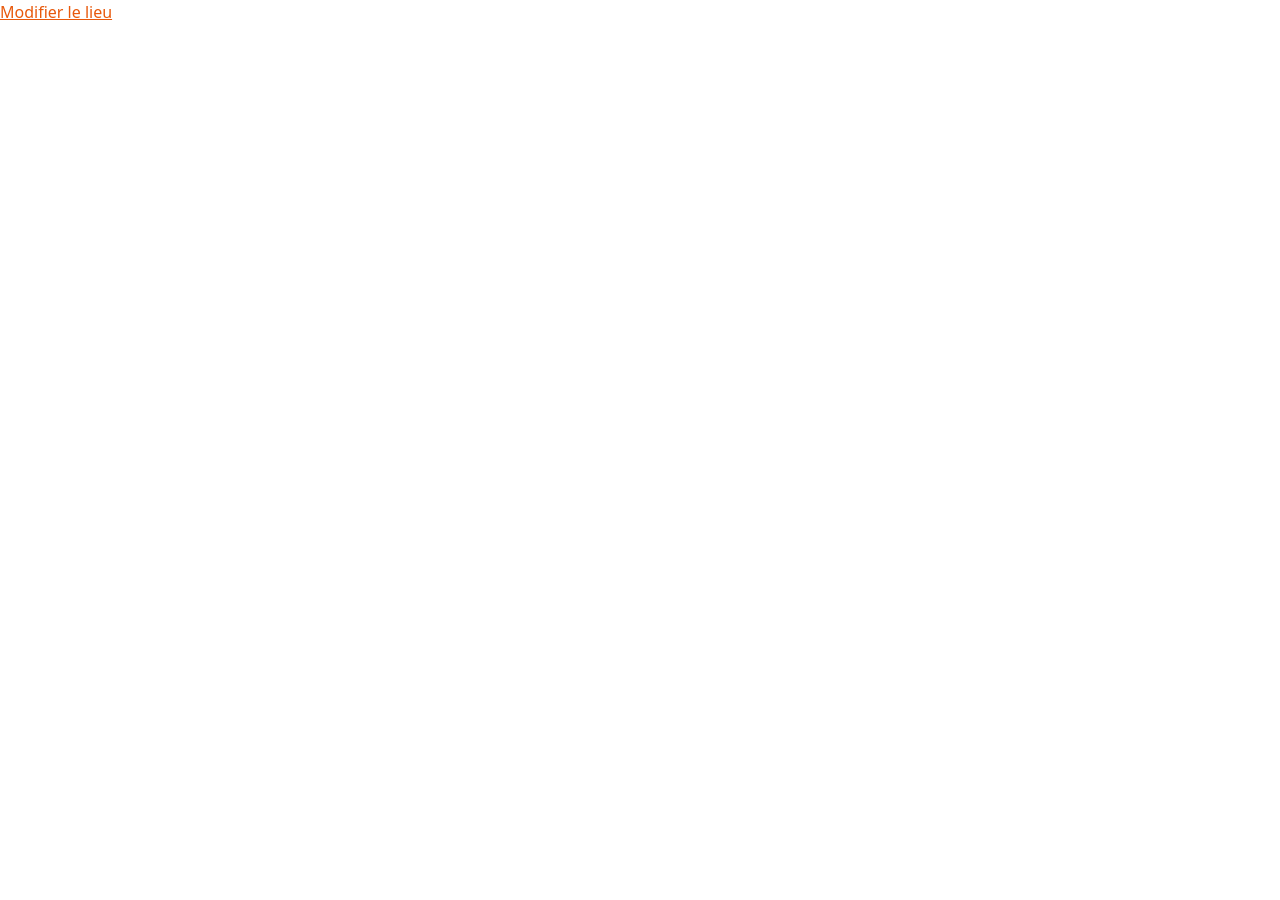
Test: LocationEditor › shows why the API refused the place, and stays open
Click the button "Modifier le lieu": x=56, y=12 [0,0,112,24]
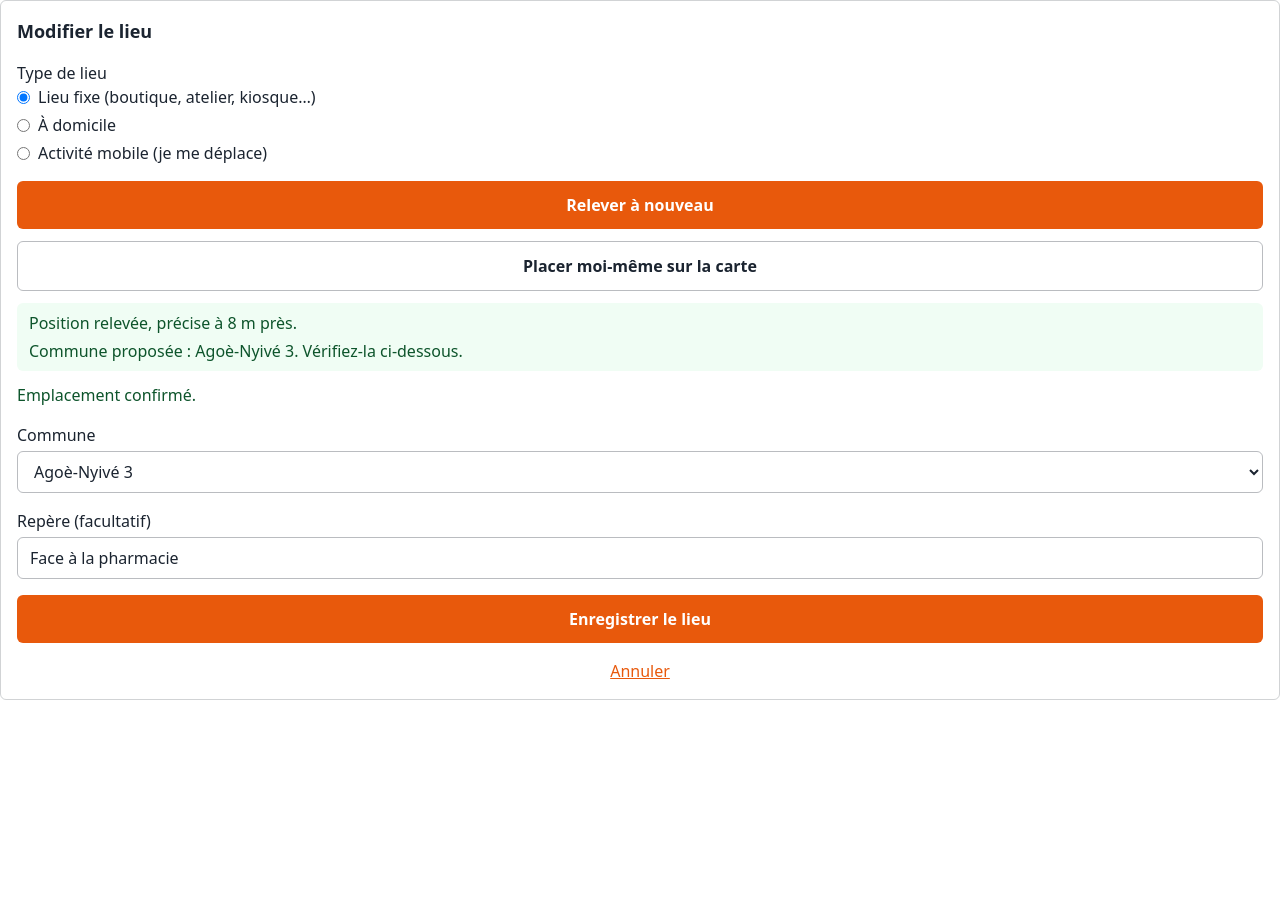
Click the button "Enregistrer le lieu": x=640, y=619 [17,595,1263,643]
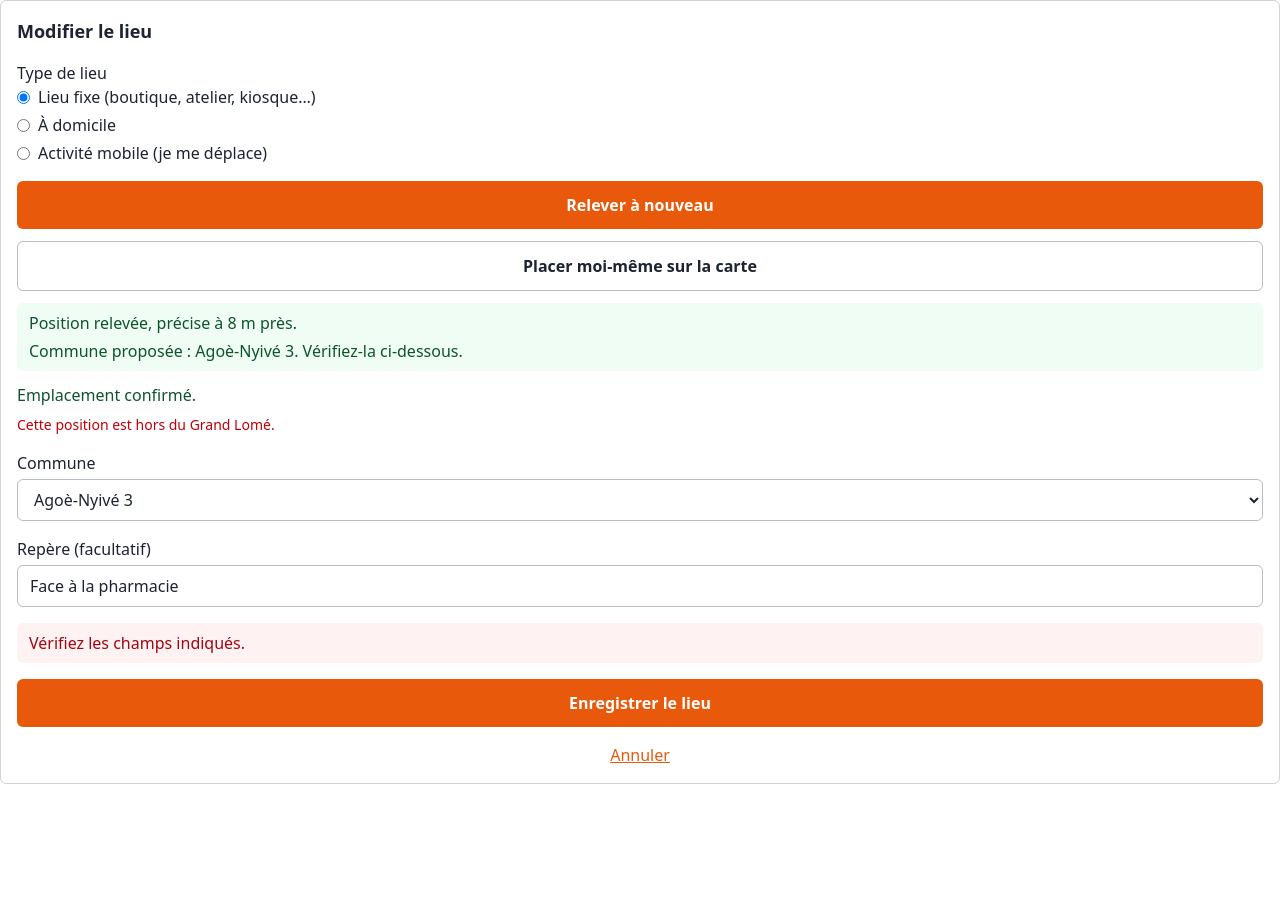
Expected: the text "Cette position est hors du Grand Lomé." is shown, [17,415,275,434]
Expected: the message "Vérifiez les champs indiqués." is shown, [17,623,1263,663]
